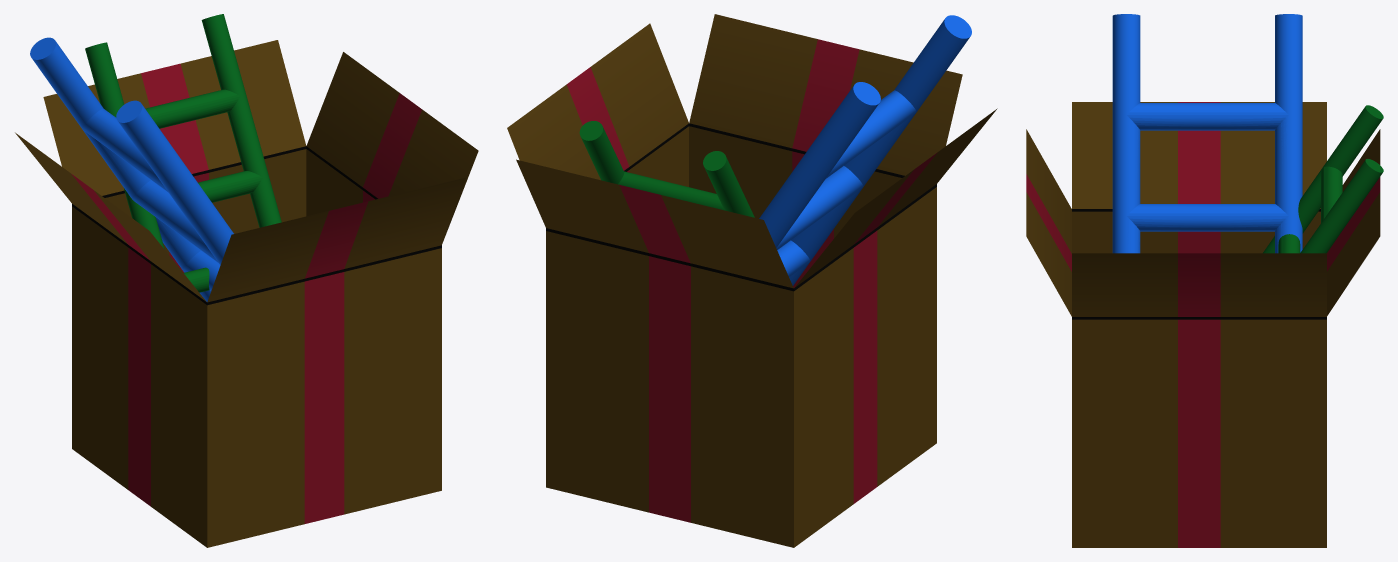
The model's file is imagebox1.fbx.
3 views of the same model, side by side, from view 1: azimuth 30°, elevation 25°; view 2: azimuth 150°, elevation 25°; view 3: azimuth 270°, elevation 25° (orthographic). The views are drawn at different scales.
Parts seen in each view (by area): view 1: Cube, Cylinder.002, Cylinder; view 2: Cube, Cylinder.002, Cylinder; view 3: Cube, Cylinder.002, Cylinder.
Part boxes in pixels (bbox=[...]): Cube: bbox=[15, 40, 478, 547]; Cylinder.002: bbox=[30, 37, 233, 301]; Cylinder: bbox=[85, 14, 281, 292]; Cube: bbox=[507, 14, 997, 547]; Cylinder.002: bbox=[759, 15, 971, 285]; Cylinder: bbox=[579, 121, 754, 217]; Cube: bbox=[1026, 102, 1380, 547]; Cylinder.002: bbox=[1112, 14, 1302, 253]; Cylinder: bbox=[1263, 105, 1383, 253].
Size of the model in its own units: 282 by 354 by 280.
